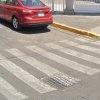crosswalks: (0, 46, 97, 99)
